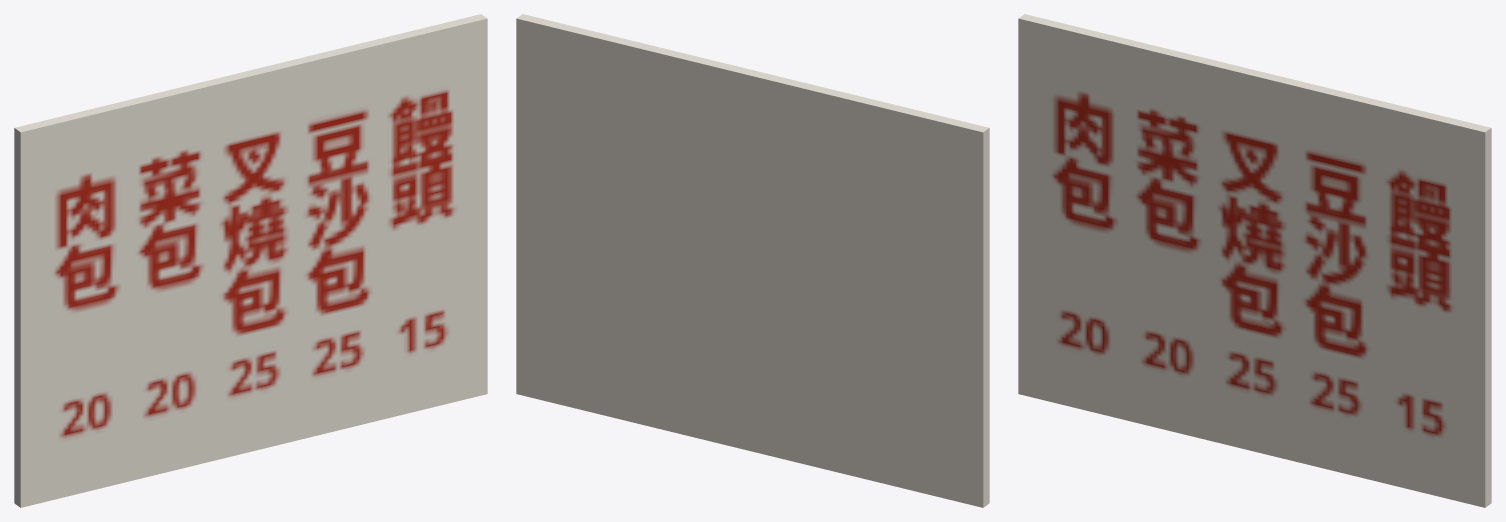
The model's file is SM_Cart_BaoMenu_01.fbx.
3 views of the same model, side by side, from view 1: azimuth 30°, elevation 25°; view 2: azimuth 150°, elevation 25°; view 3: azimuth 330°, elevation 25° (orthographic).
Parts seen in each view (by area): view 1: SM_Cart_BaoMenu_01; view 2: SM_Cart_BaoMenu_01; view 3: SM_Cart_BaoMenu_01.
Part boxes in pixels (x1,y1,x2,y2): SM_Cart_BaoMenu_01: [14, 14, 487, 507]; SM_Cart_BaoMenu_01: [516, 14, 989, 507]; SM_Cart_BaoMenu_01: [1018, 14, 1491, 507].
Size of the model in its own units: 0.519 by 0.399 by 0.012.
Materials: 1 (1 with a texture image).
